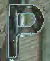Parking: (3, 0, 45, 60)
